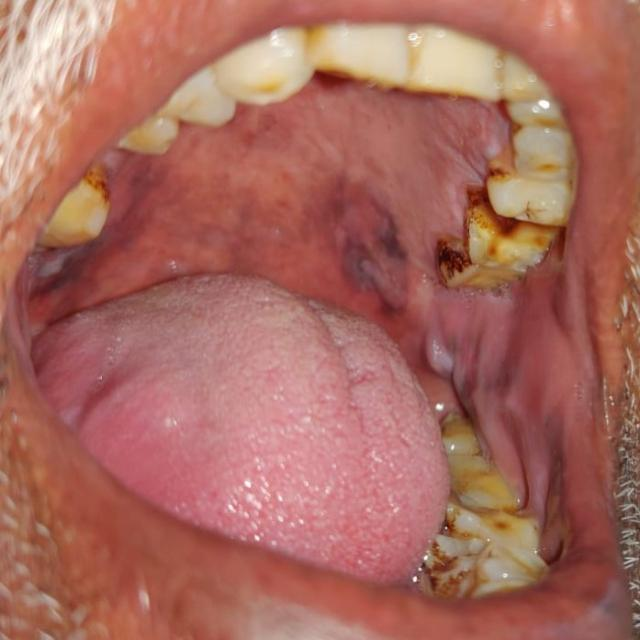Cancer: (350, 101, 616, 588), (33, 204, 173, 466)
